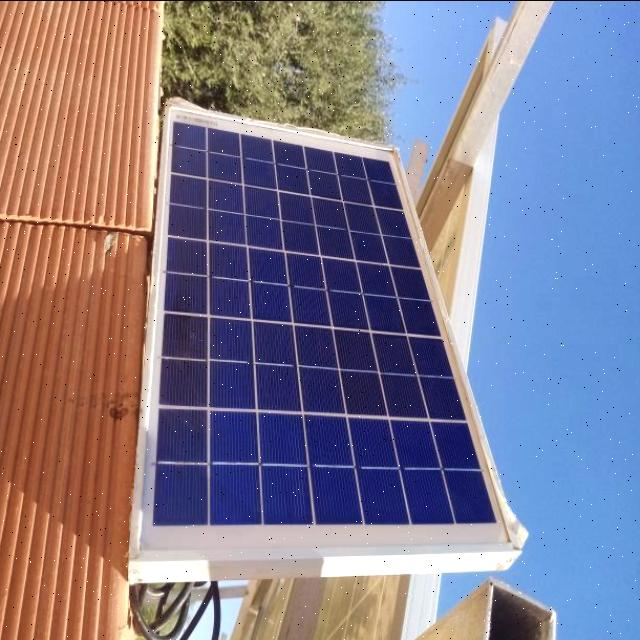Normal Solar Panel: (133, 102, 516, 558)
